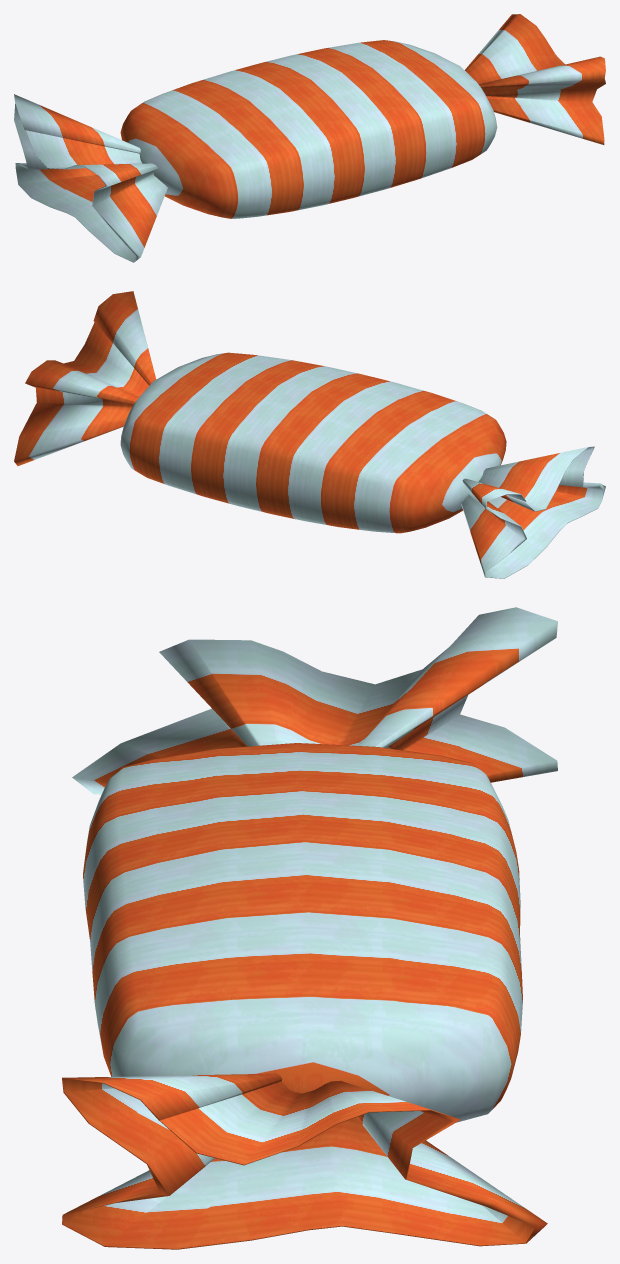
File: Caramelo.fbx
The picture shows the model from 3 angles, top to bottom: view 1: azimuth 30°, elevation 25°; view 2: azimuth 150°, elevation 25°; view 3: azimuth 270°, elevation 25°; orthographic projection. The views are drawn at different scales.
Visible parts, largest first — view 1: Diorama.001; view 2: Diorama.001; view 3: Diorama.001.
Part boxes in pixels (x1,y1,x2,y2): Diorama.001: [14, 14, 605, 262]; Diorama.001: [14, 291, 605, 578]; Diorama.001: [62, 607, 557, 1249].
Size of the model in its own units: 2.02 by 0.3889 by 0.8757.
Materials: 1 (1 with a texture image).
